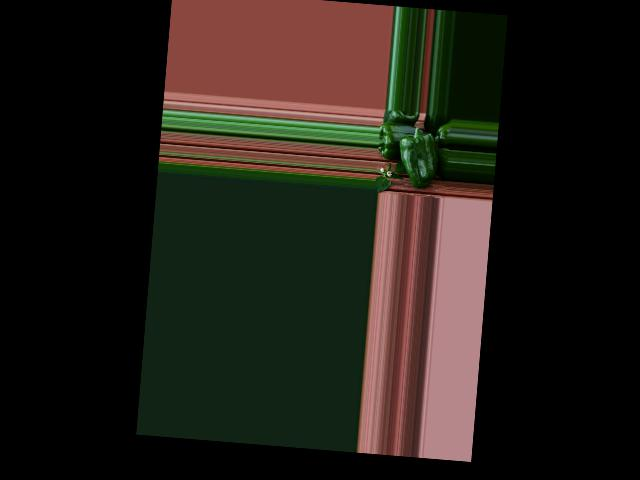bell_pepper: (432, 116, 453, 144)
